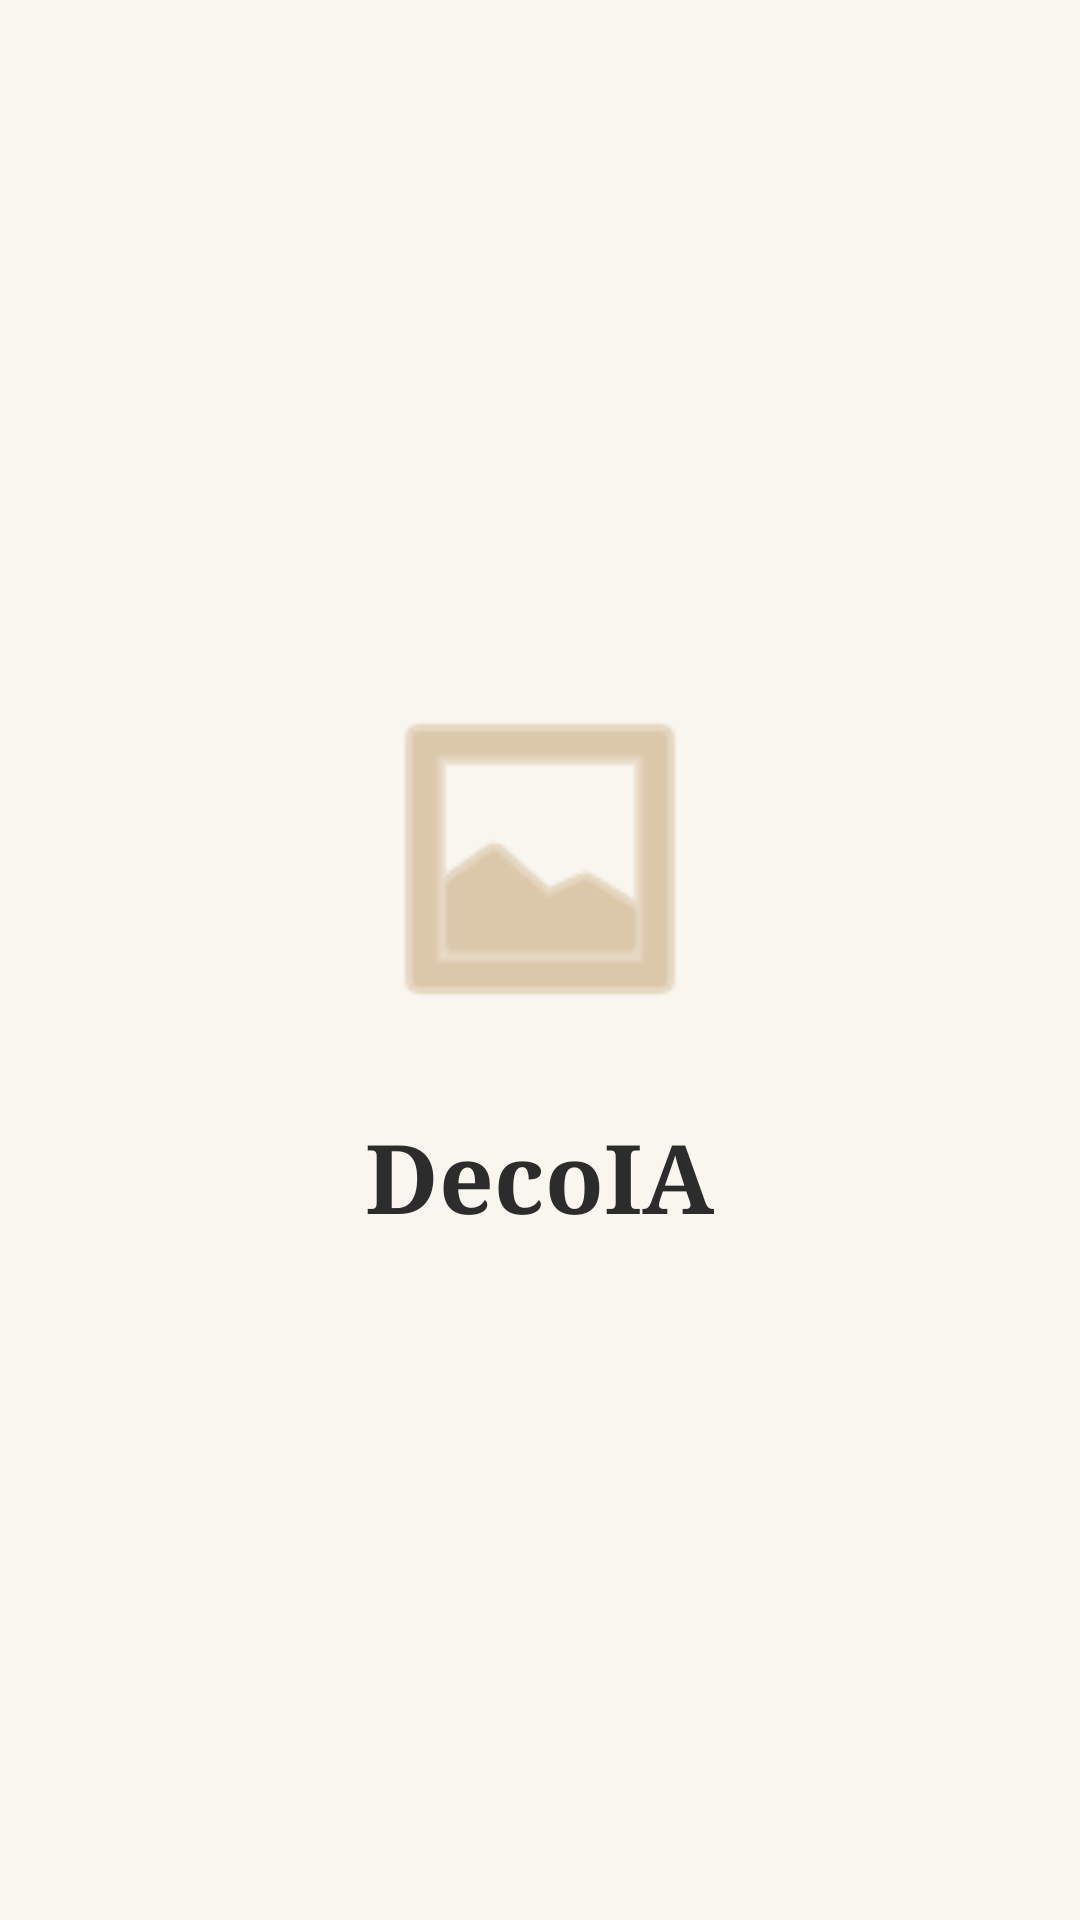

Screen size 1080*1920. Icon name, then its center in pixels as (x,y):
gallery: (540,859)
